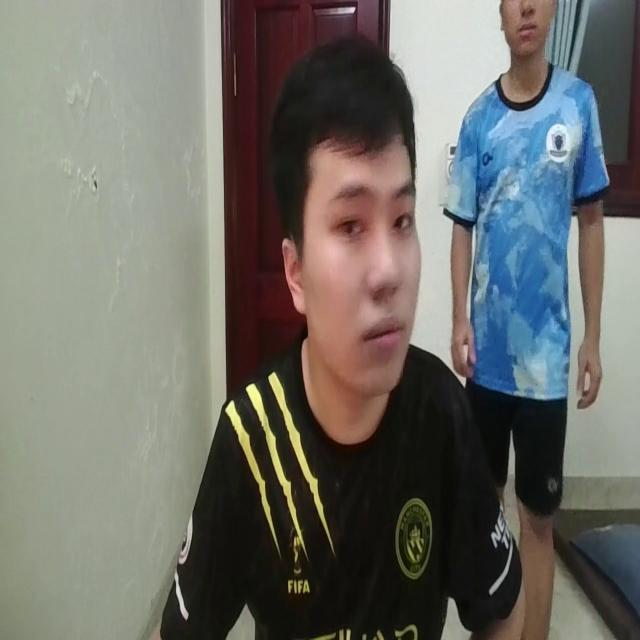extra_person: (449, 0, 604, 640)
student: (143, 34, 519, 640)
